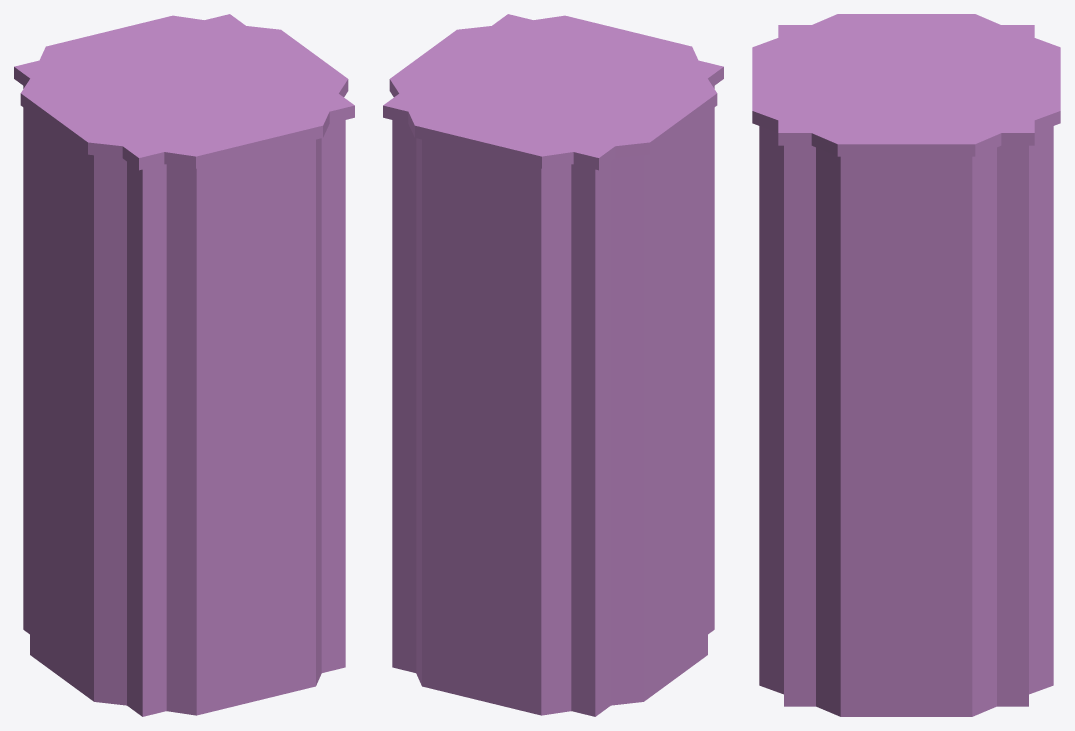
Rendered from Tower_Mid_A.fbx.
3 renders of one model, left to right at view 1: azimuth 30°, elevation 25°; view 2: azimuth 150°, elevation 25°; view 3: azimuth 270°, elevation 25°, orthographic. The views are drawn at different scales.
Parts seen in each view (by area): view 1: Tower_Mid_A; view 2: Tower_Mid_A; view 3: Tower_Mid_A.
Part boxes in pixels (x1,y1,x2,y2): Tower_Mid_A: (14, 14, 354, 716); Tower_Mid_A: (383, 14, 723, 716); Tower_Mid_A: (752, 14, 1060, 716).
Bounding box in the file's own units: 654 × 1350 × 654.
